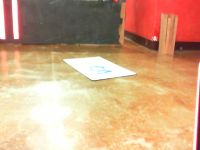switch: (11, 1, 20, 40), (1, 1, 6, 40)
